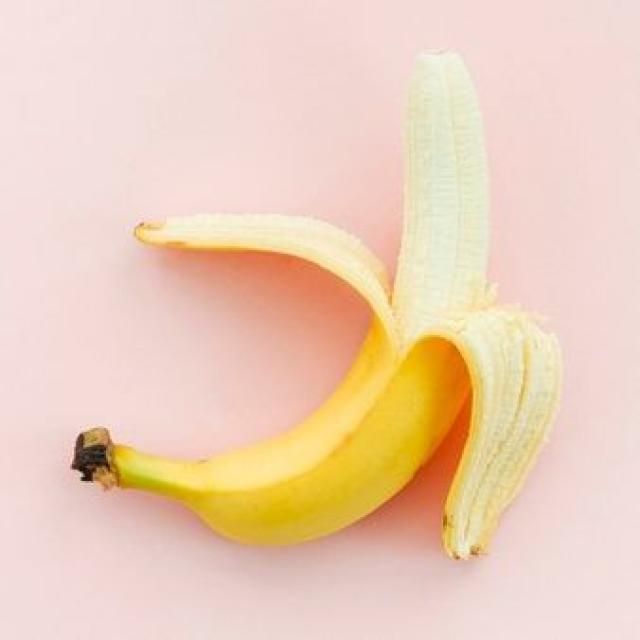banana: (74, 54, 560, 558)
